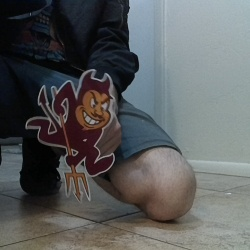sparky: (24, 68, 115, 203)
